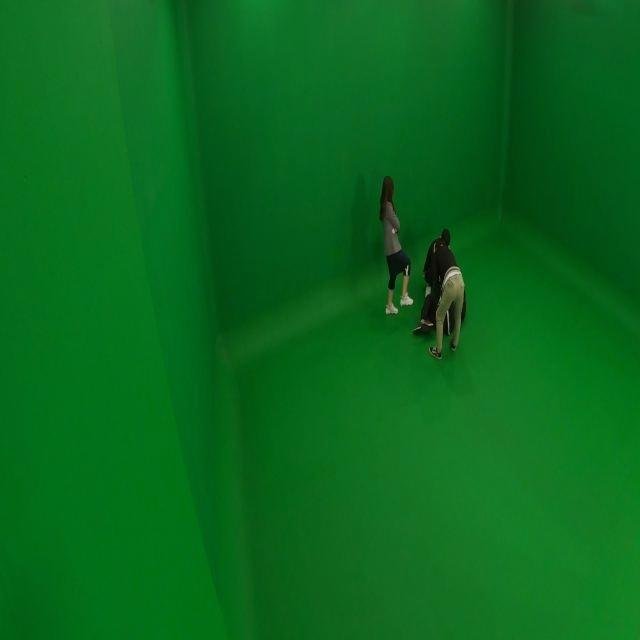fight: (417, 229, 468, 357)
non-fight: (377, 176, 414, 313)
